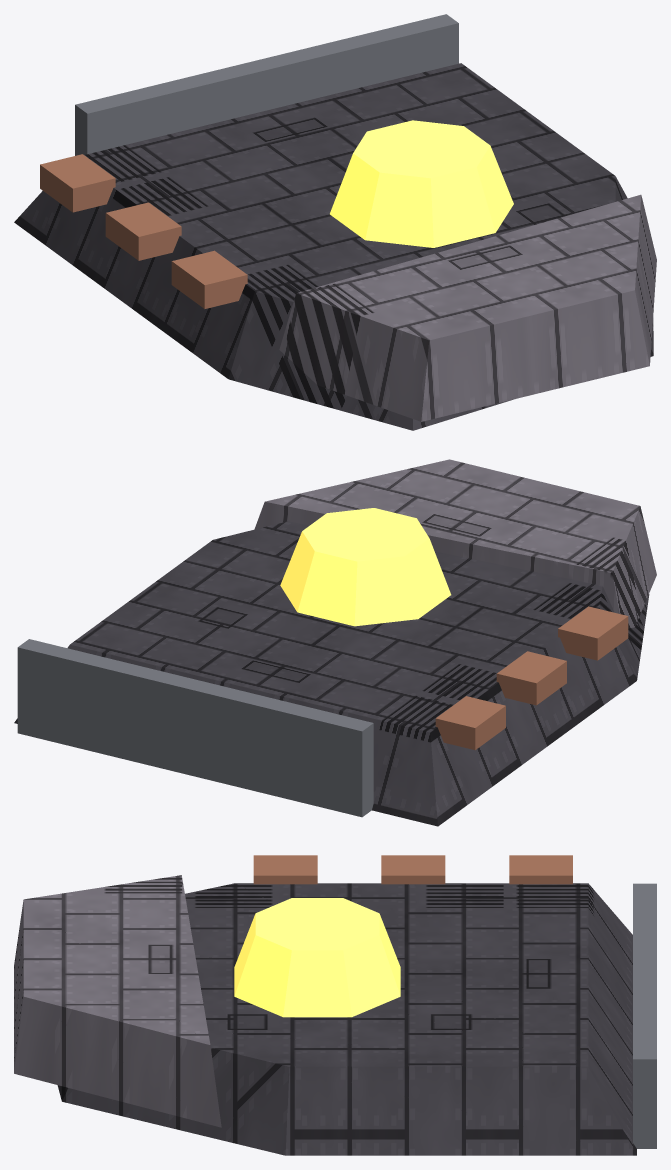
Rendered from twin_ember.glb.
3 views of the same model, one above another, from view 1: azimuth 30°, elevation 25°; view 2: azimuth 150°, elevation 25°; view 3: azimuth 270°, elevation 25° (orthographic). The views are drawn at different scales.
Size of the model in its own units: 32.5 by 9 by 40.25.
5 materials, 2 textured.
